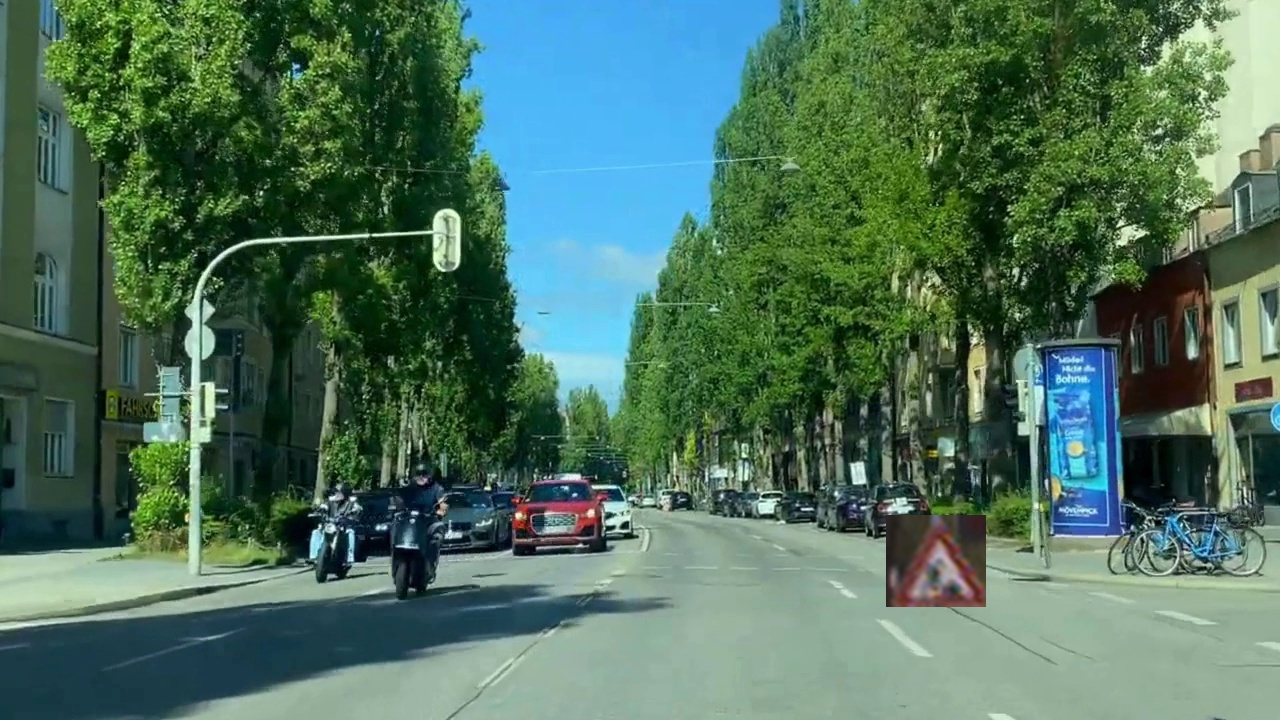Road work: (886, 515, 986, 607)
